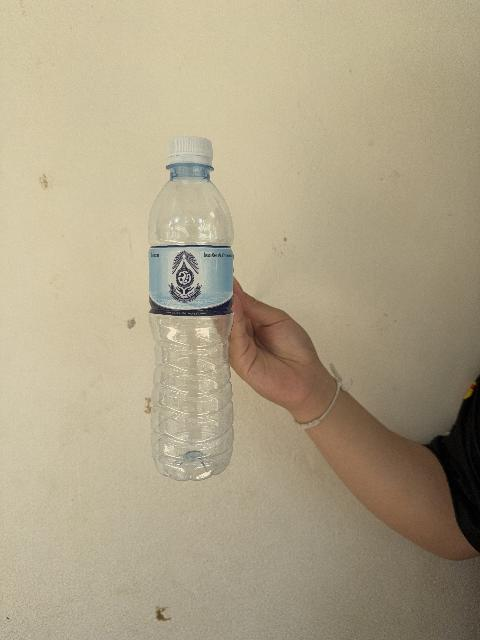bottle: (149, 137, 233, 480)
